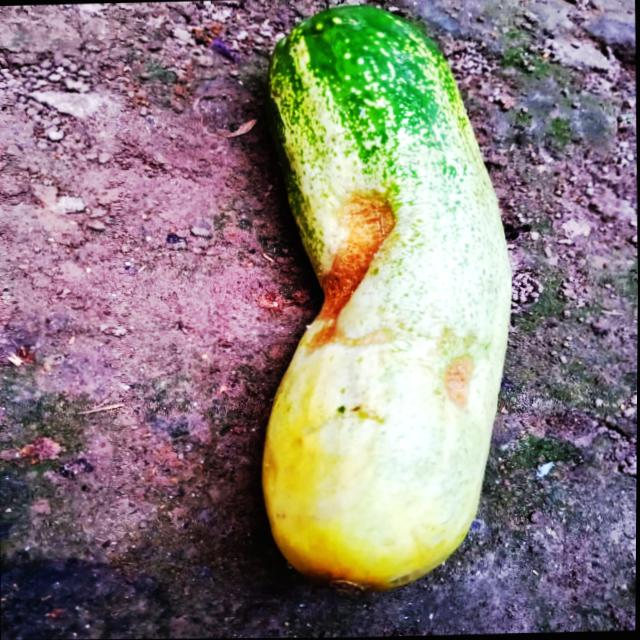Belly-Rot: (296, 169, 406, 367), (437, 346, 481, 417)
